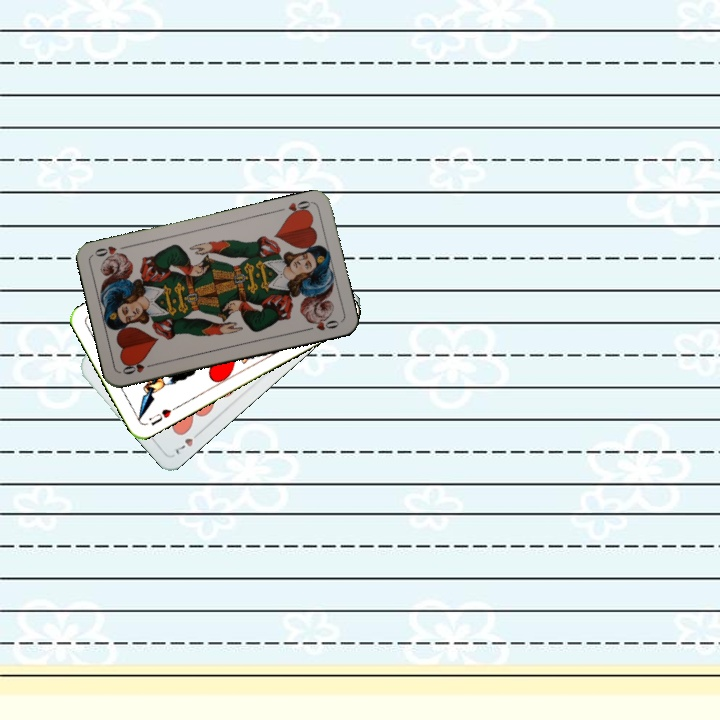H7: (170, 427, 204, 457)
HO: (118, 357, 158, 377), (283, 197, 314, 220)
HU: (144, 402, 180, 428)
